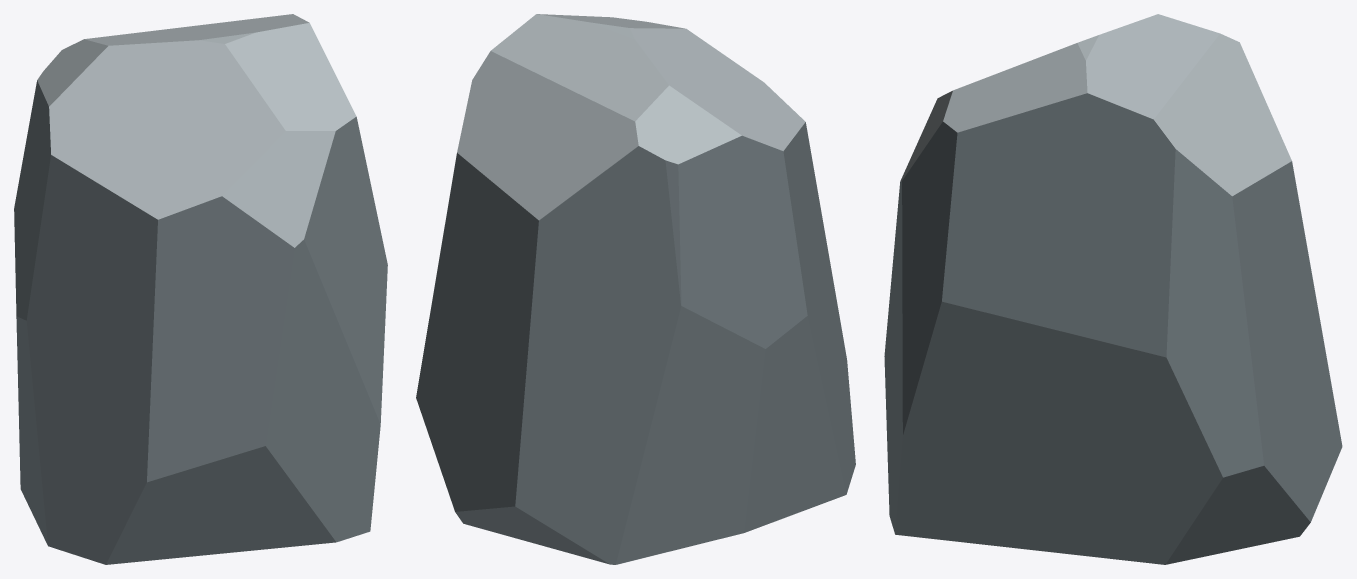
The model's file is SM_Rock_003.fbx.
The picture shows the model from 3 angles, left to right: view 1: azimuth 30°, elevation 25°; view 2: azimuth 150°, elevation 25°; view 3: azimuth 270°, elevation 25°; orthographic projection. The views are drawn at different scales.
Parts seen in each view (by area): view 1: Rock_003; view 2: Rock_003; view 3: Rock_003.
Boxes of the visible parts, box(x1,y1,x2,y2) form: Rock_003: box(14, 14, 387, 564); Rock_003: box(416, 14, 855, 564); Rock_003: box(884, 14, 1342, 564).
Bounding box in the file's own units: 131 × 161 × 144.
Materials: 1 (1 with a texture image).
